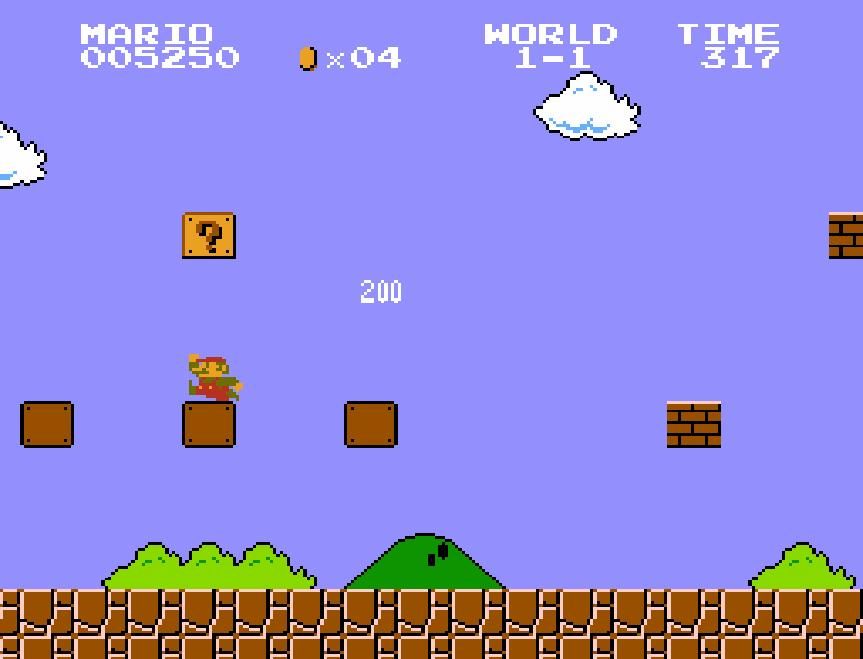little_mario: (186, 352, 244, 402)
